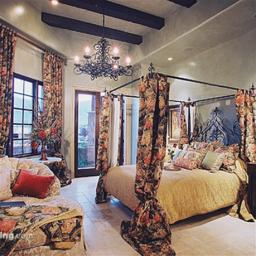Cama: (108, 82, 251, 223)
Puerta: (77, 92, 101, 174)
Ventana: (7, 71, 50, 155)
